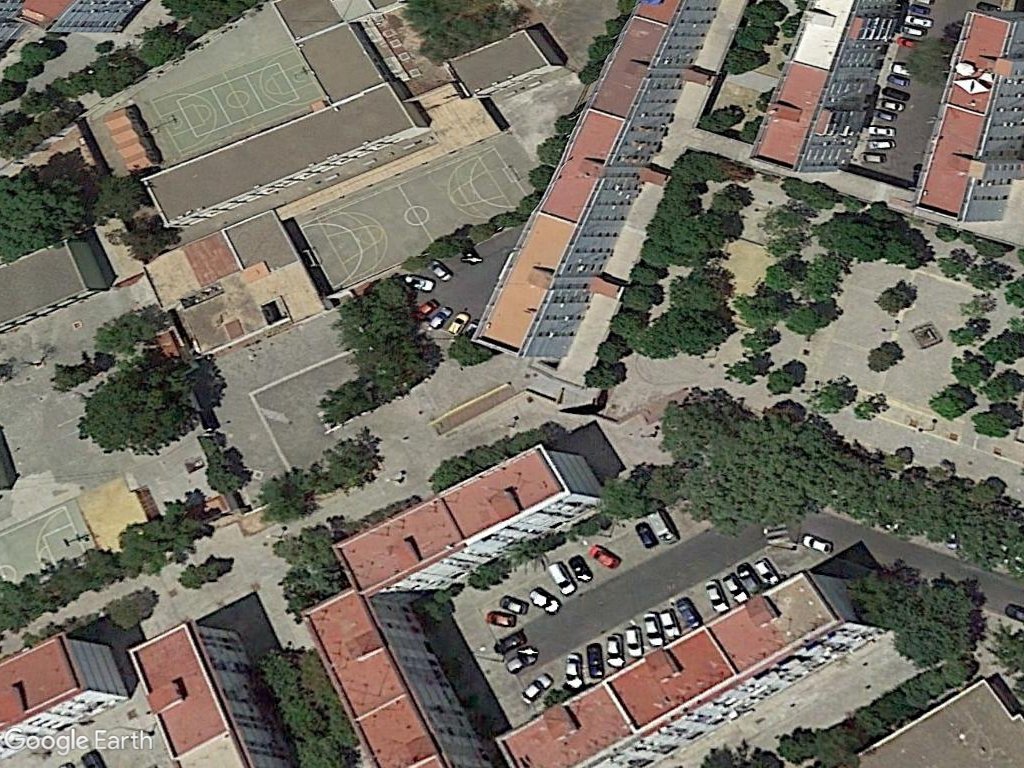car: (699, 576, 730, 616), (797, 530, 837, 557), (619, 623, 645, 663)
van: (544, 559, 577, 598)
